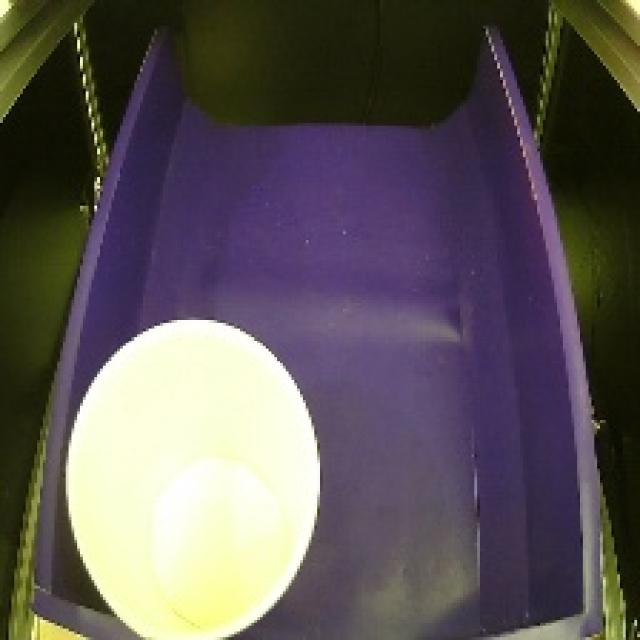cups: (59, 313, 328, 640)
